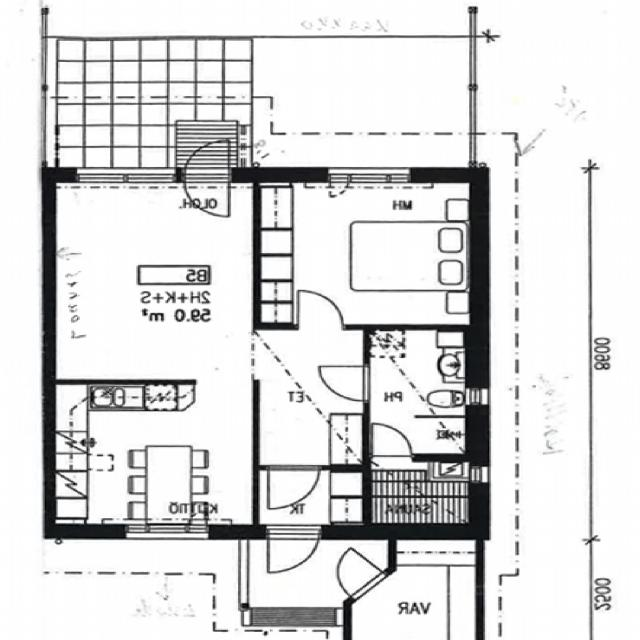door: (319, 548, 388, 600), (268, 524, 319, 579), (268, 465, 319, 511), (184, 134, 229, 182), (184, 168, 229, 216), (298, 289, 343, 330), (320, 366, 371, 400), (374, 424, 412, 461)
